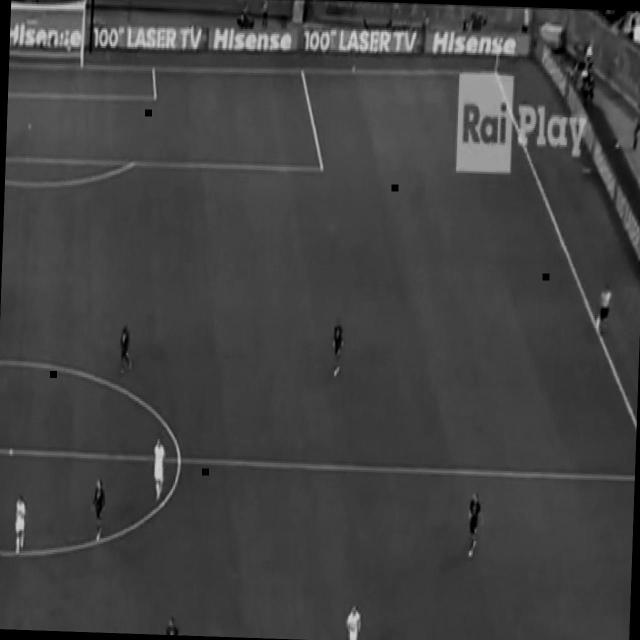player-white: (464, 489, 486, 558), (88, 476, 109, 546), (148, 434, 168, 506), (11, 491, 29, 561), (115, 319, 135, 381), (328, 317, 346, 378), (596, 279, 614, 339), (341, 597, 362, 640), (160, 611, 182, 635)
